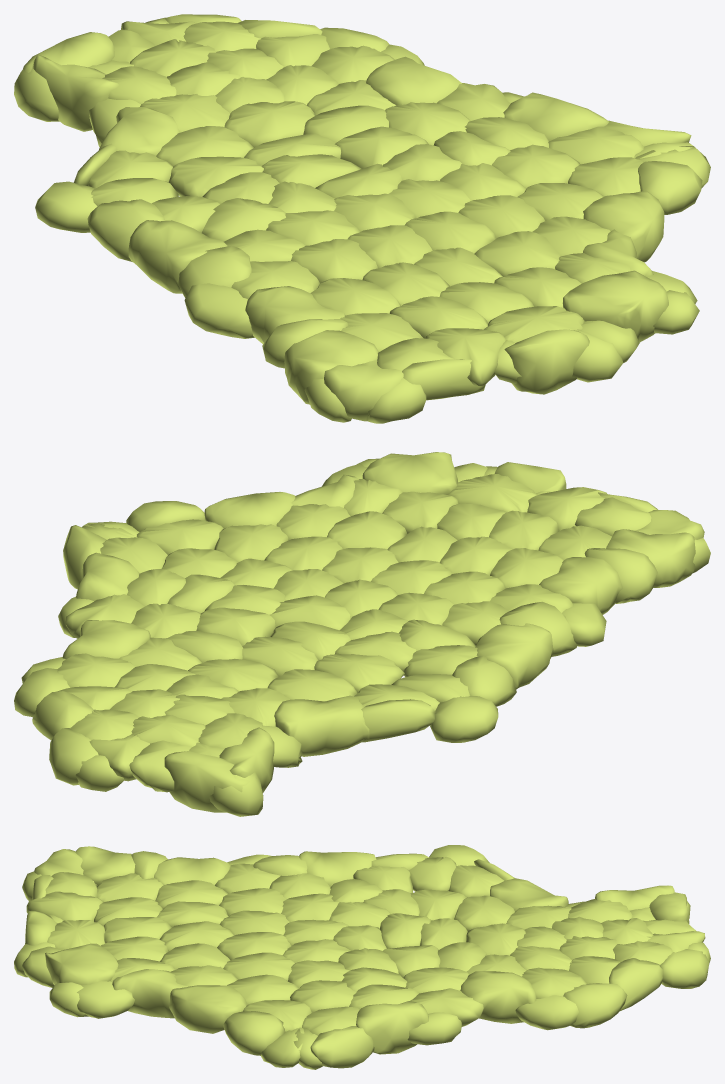
Rendered from Islands3.007_fog.fbx.
3 views of the same model, one above another, from view 1: azimuth 30°, elevation 25°; view 2: azimuth 150°, elevation 25°; view 3: azimuth 270°, elevation 25° (orthographic). The views are drawn at different scales.
Visible parts, largest first — view 1: Island3.007_fog_cell.021, Island3.007_fog_cell.095, Island3.007_fog_cell.064, Island3.007_fog_cell.041, Island3.007_fog_cell.051, Island3.007_fog_cell.066, Island3.007_fog_cell.073, Island3.007_fog_cell.065, Island3.007_fog_cell.083, Island3.007_fog_cell.058, Island3.007_fog_cell.082, Island3.007_fog_cell.046 (+80 smaller); view 2: Island3.007_fog_cell.061, Island3.007_fog_cell.095, Island3.007_fog_cell.055, Island3.007_fog_cell.021, Island3.007_fog_cell.041, Island3.007_fog_cell.065, Island3.007_fog_cell.078, Island3.007_fog_cell.051, Island3.007_fog_cell.073, Island3.007_fog_cell.094, Island3.007_fog_cell.034, Island3.007_fog_cell.062 (+74 smaller); view 3: Island3.007_fog_cell.051, Island3.007_fog_cell.073, Island3.007_fog_cell.082, Island3.007_fog_cell.021, Island3.007_fog_cell.070, Island3.007_fog_cell.031, Island3.007_fog_cell.014, Island3.007_fog_cell.042, Island3.007_fog_cell.010, Island3.007_fog_cell.095, Island3.007_fog_cell.065, Island3.007_fog_cell.008 (+77 smaller).
Boxes of the visible parts, x1,y1,x2,y2 form: Island3.007_fog_cell.021: [562, 270, 668, 342]; Island3.007_fog_cell.095: [128, 220, 227, 293]; Island3.007_fog_cell.064: [504, 329, 589, 394]; Island3.007_fog_cell.041: [284, 330, 378, 404]; Island3.007_fog_cell.051: [583, 190, 664, 262]; Island3.007_fog_cell.066: [33, 54, 119, 131]; Island3.007_fog_cell.073: [366, 56, 461, 105]; Island3.007_fog_cell.065: [245, 286, 345, 344]; Island3.007_fog_cell.083: [224, 101, 314, 147]; Island3.007_fog_cell.058: [324, 360, 403, 421]; Island3.007_fog_cell.082: [503, 92, 608, 141]; Island3.007_fog_cell.046: [184, 283, 254, 338]; Island3.007_fog_cell.061: [274, 695, 369, 756]; Island3.007_fog_cell.095: [475, 623, 553, 689]; Island3.007_fog_cell.055: [164, 751, 256, 812]; Island3.007_fog_cell.021: [362, 452, 457, 494]; Island3.007_fog_cell.041: [606, 529, 695, 587]; Island3.007_fog_cell.065: [539, 557, 622, 614]; Island3.007_fog_cell.078: [430, 696, 498, 742]; Island3.007_fog_cell.051: [204, 492, 295, 528]; Island3.007_fog_cell.073: [62, 620, 150, 659]; Island3.007_fog_cell.094: [361, 699, 436, 742]; Island3.007_fog_cell.034: [447, 474, 537, 512]; Island3.007_fog_cell.062: [327, 511, 407, 549]; Island3.007_fog_cell.051: [169, 985, 247, 1033]; Island3.007_fog_cell.073: [460, 971, 536, 1023]; Island3.007_fog_cell.082: [356, 1001, 428, 1054]; Island3.007_fog_cell.021: [45, 943, 118, 985]; Island3.007_fog_cell.070: [112, 969, 187, 1018]; Island3.007_fog_cell.031: [310, 1026, 374, 1068]; Island3.007_fog_cell.014: [563, 983, 627, 1028]; Island3.007_fog_cell.042: [223, 1011, 285, 1055]; Island3.007_fog_cell.010: [609, 958, 662, 1011]; Island3.007_fog_cell.095: [299, 851, 376, 887]; Island3.007_fog_cell.065: [154, 857, 230, 885]; Island3.007_fog_cell.008: [77, 981, 134, 1018].
Size of the model in its own units: 110 by 11.2 by 156.
